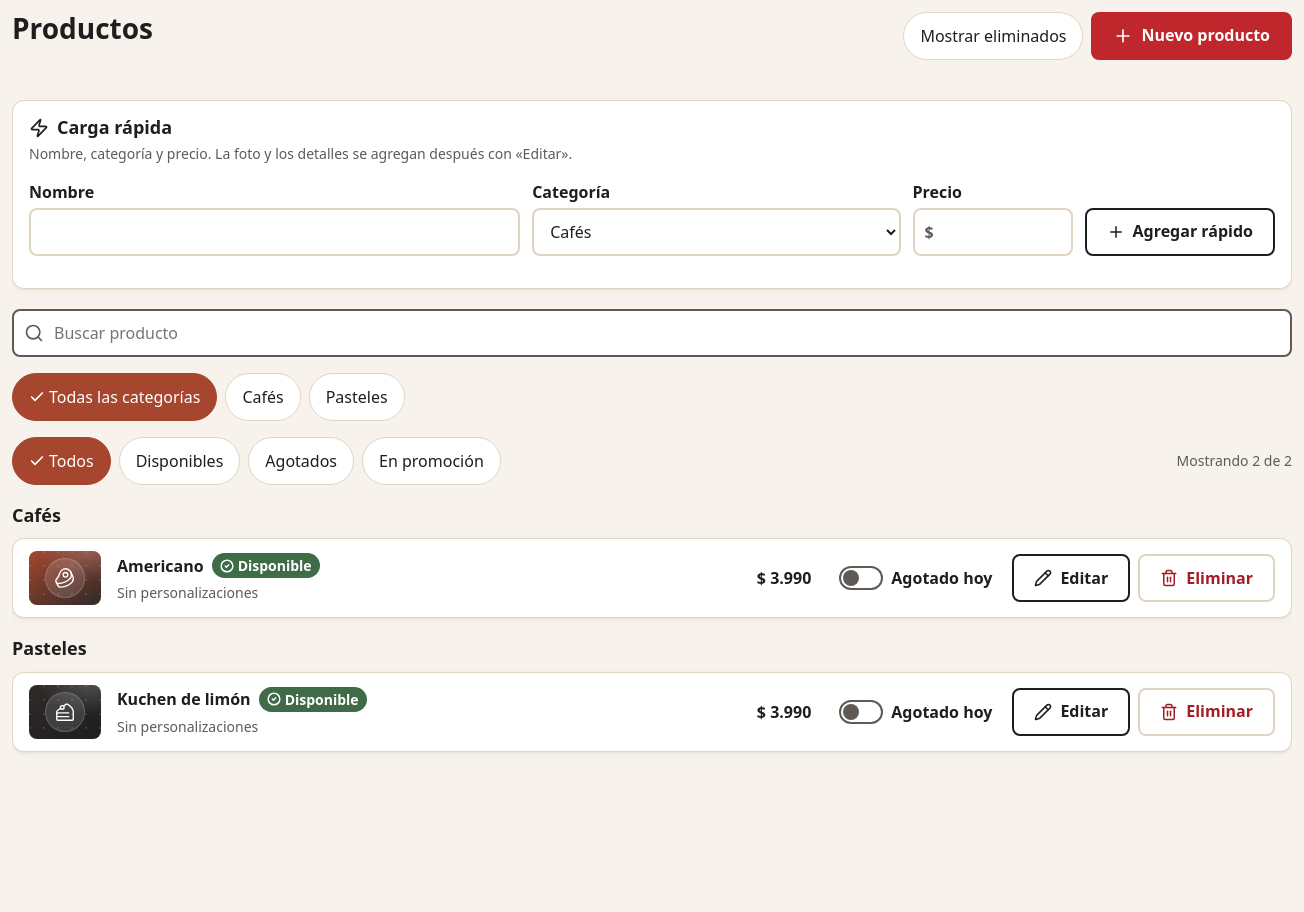
Scenario: ProductListPage filters › searches without caring about accents and says how many are shown
Check: the switch named "Agotado hoy: Americano" is shown, box [827,554,1004,602]
Check: the text "Mostrando 2 de 2" is shown, box [1176,450,1292,471]
Type "LIMON" into the search field labelled "Buscar producto" at (652, 333), box [12,309,1292,357]
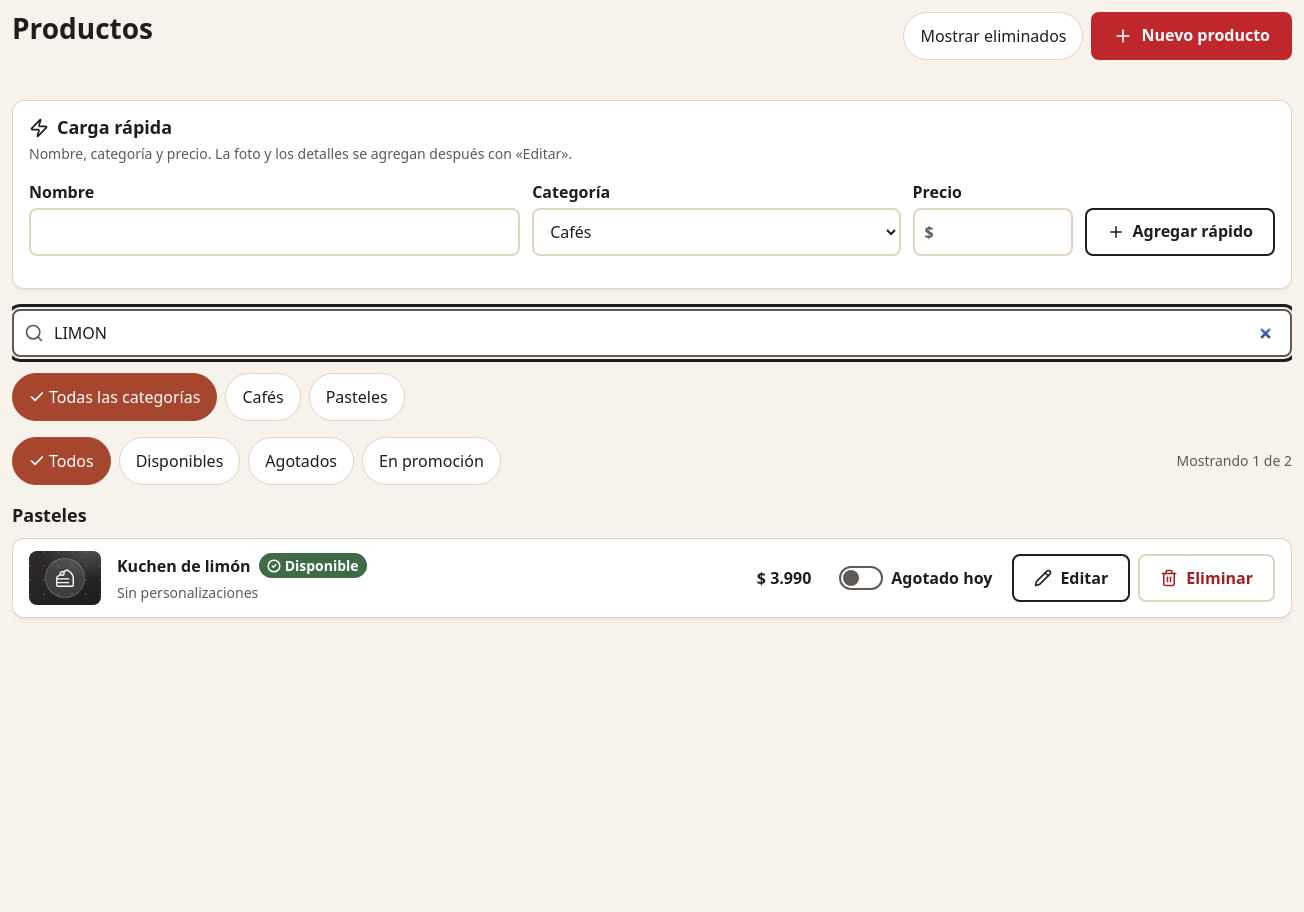
Check: the switch named "Agotado hoy: Kuchen de limón" is shown, box [827,554,1004,602]
Check: the text "Mostrando 1 de 2" is shown, box [1176,450,1292,471]
